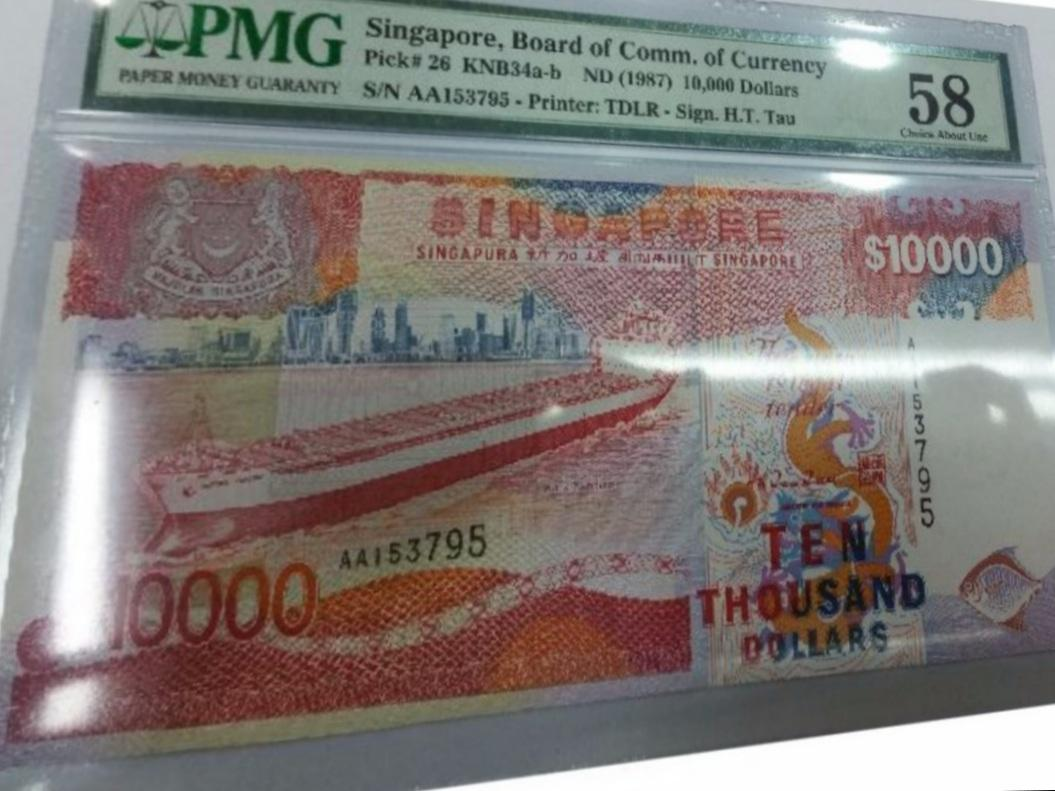10000SingaporeDollar: (19, 176, 1055, 732)
